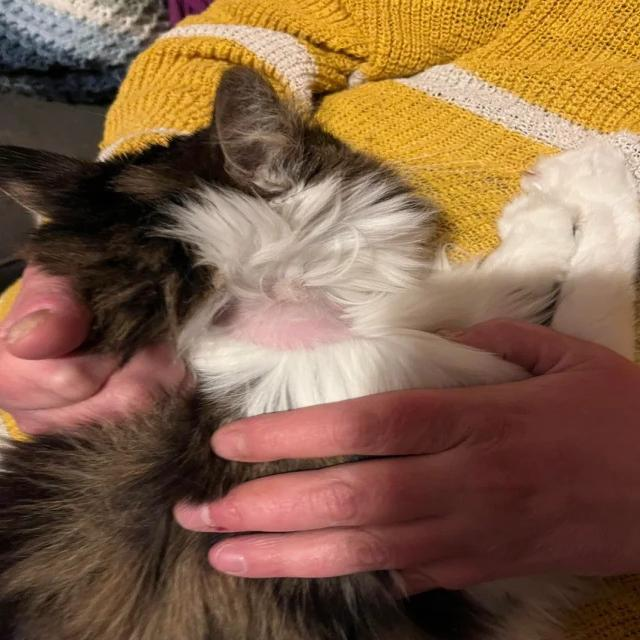cat-hairloss: (235, 299, 342, 345)
